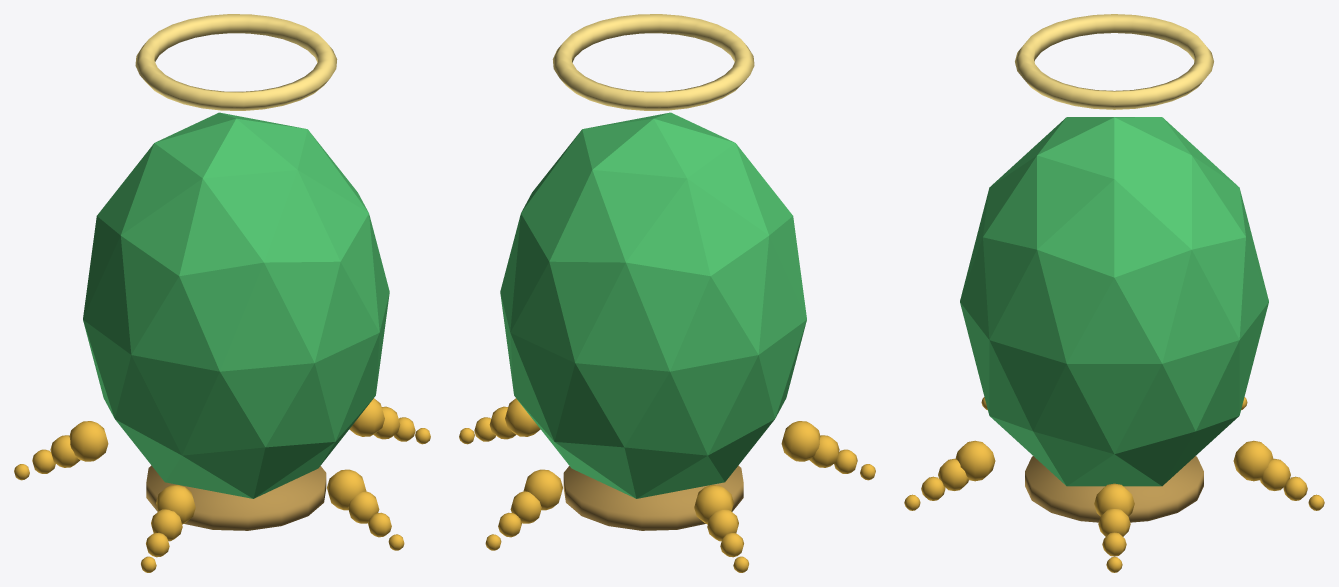
Rendered from egg_jungle_00.glb.
The picture shows the model from 3 angles, left to right: view 1: azimuth 30°, elevation 25°; view 2: azimuth 150°, elevation 25°; view 3: azimuth 270°, elevation 25°; orthographic projection.
Visible parts, largest first — view 1: ico; view 2: ico; view 3: ico.
Boxes of the visible parts, x1,y1,x2,y2 form: ico: (14,14,430,572); ico: (459,14,875,572); ico: (904,14,1324,572).
Bounding box in the file's own units: 0.9843 × 1.17 × 1.03.
